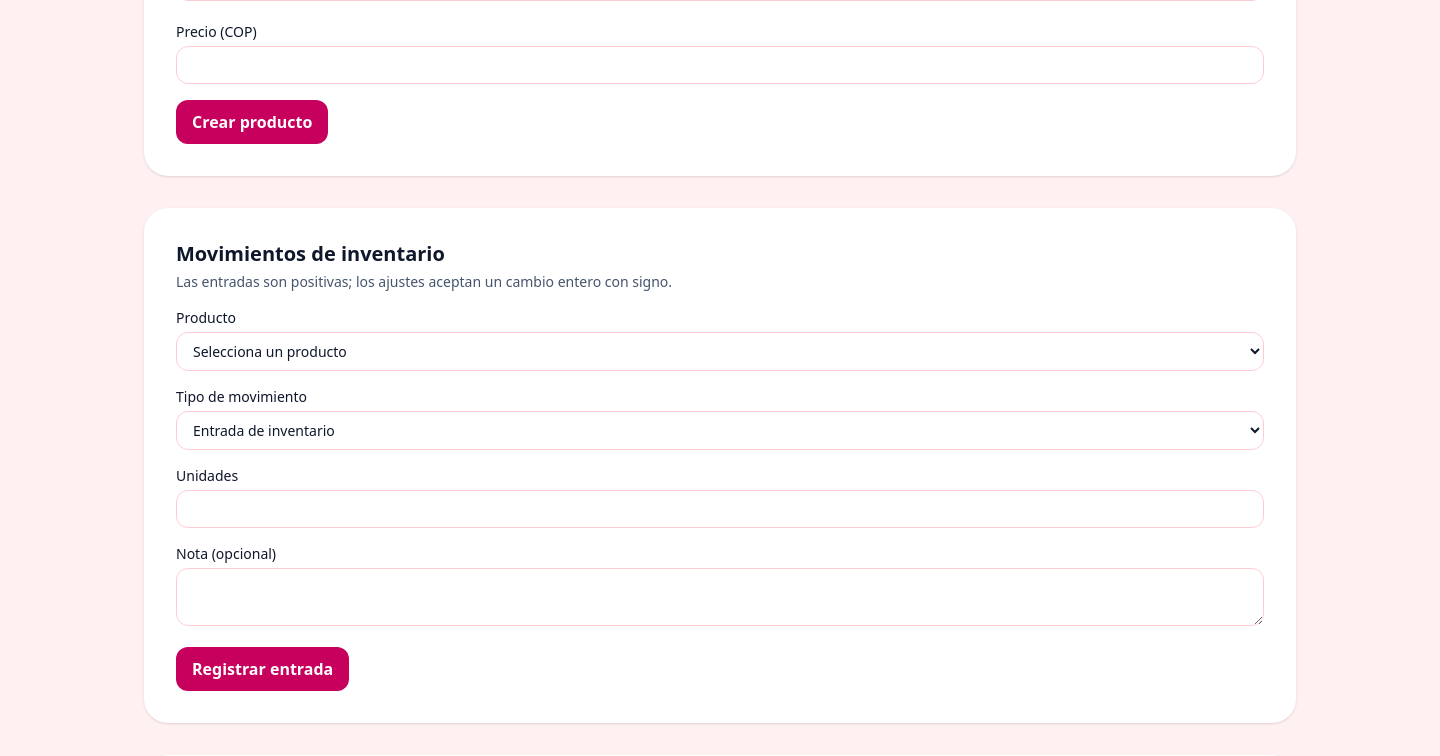
administrator stock movement form › ignores a mutation response that arrives after logout
This screenshot has width=1440, height=756.
(page scrolled)
Select "KW-001 · Sticker kawaii" in the dropdown labelled "Producto" at (720, 352), box [176, 332, 1264, 371]
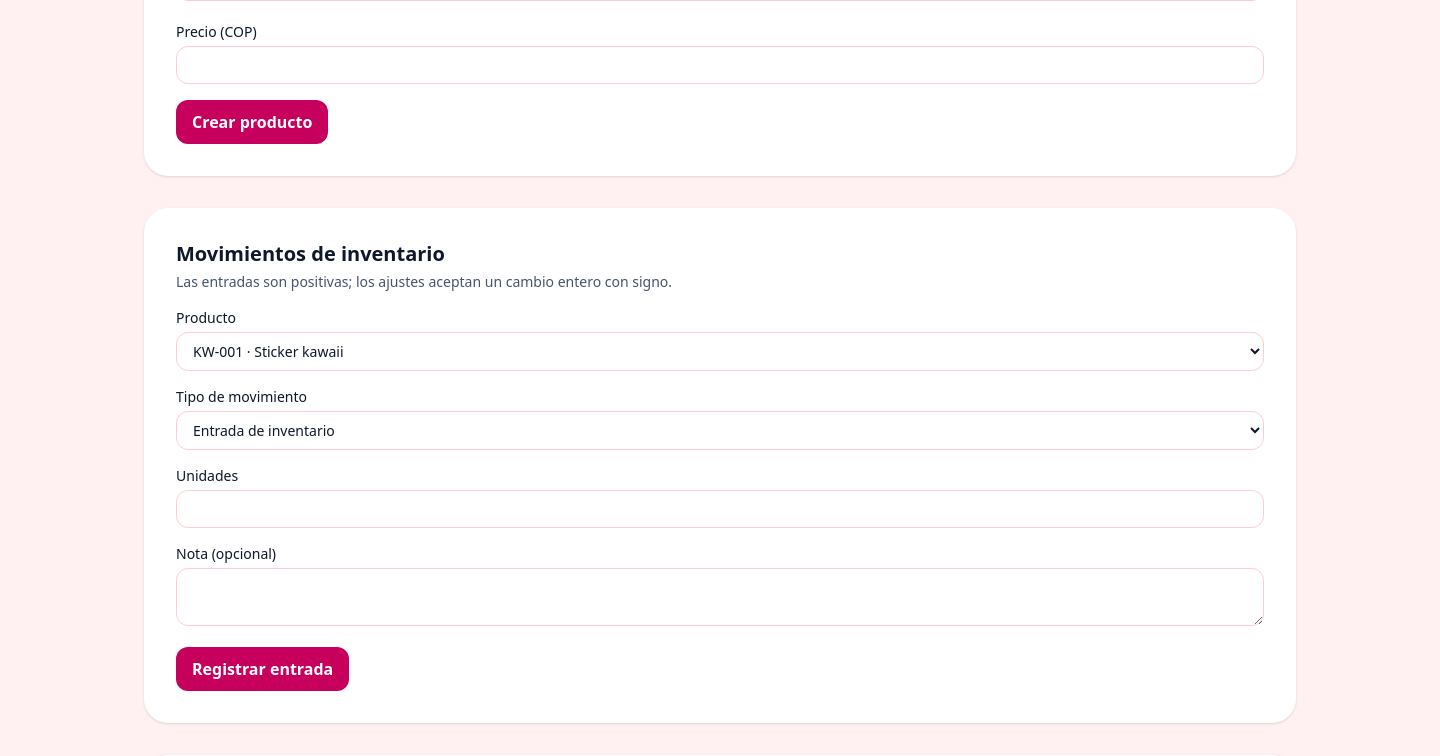
Type "3" into the number field labelled "Unidades" at (720, 509), box [176, 490, 1264, 528]
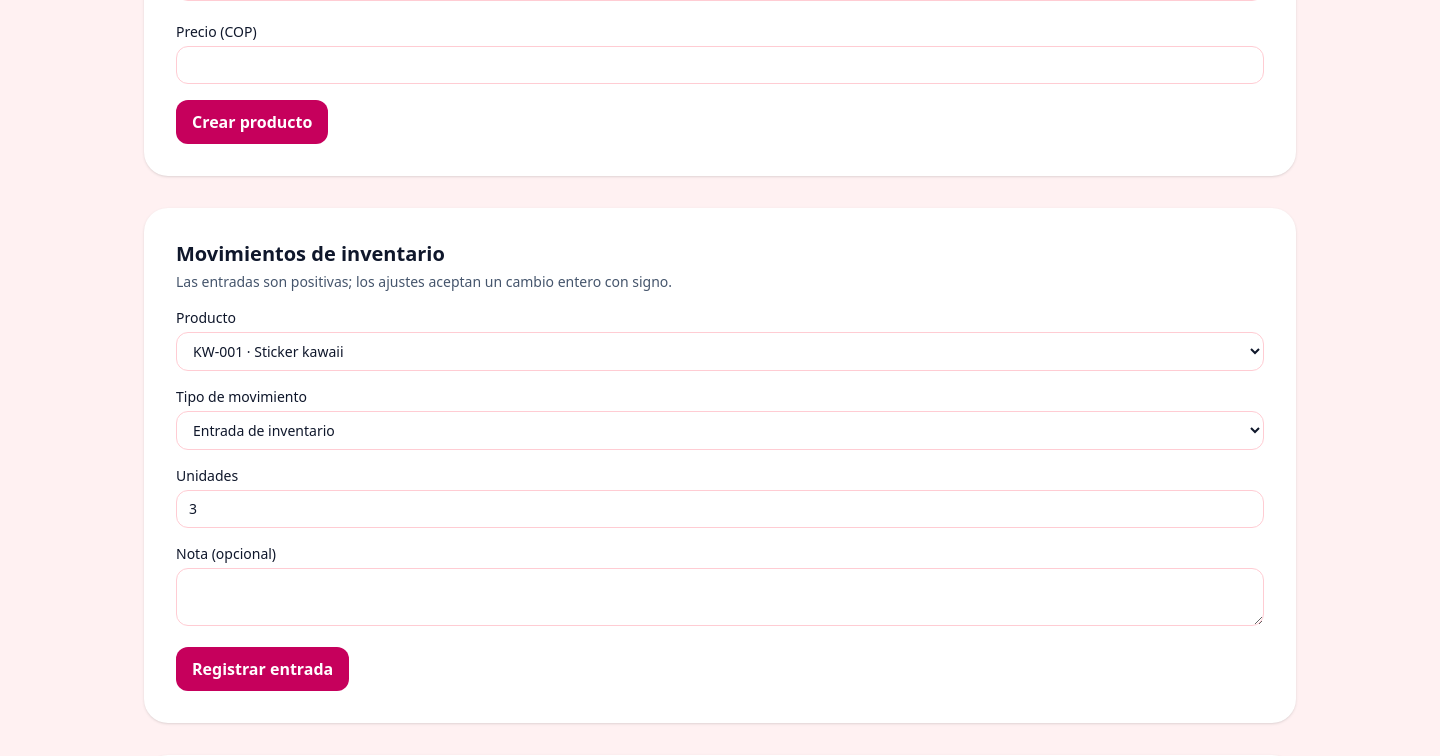
Submit the form named "Registrar movimiento de inventario", box [144, 208, 1296, 723]
(page scrolled)
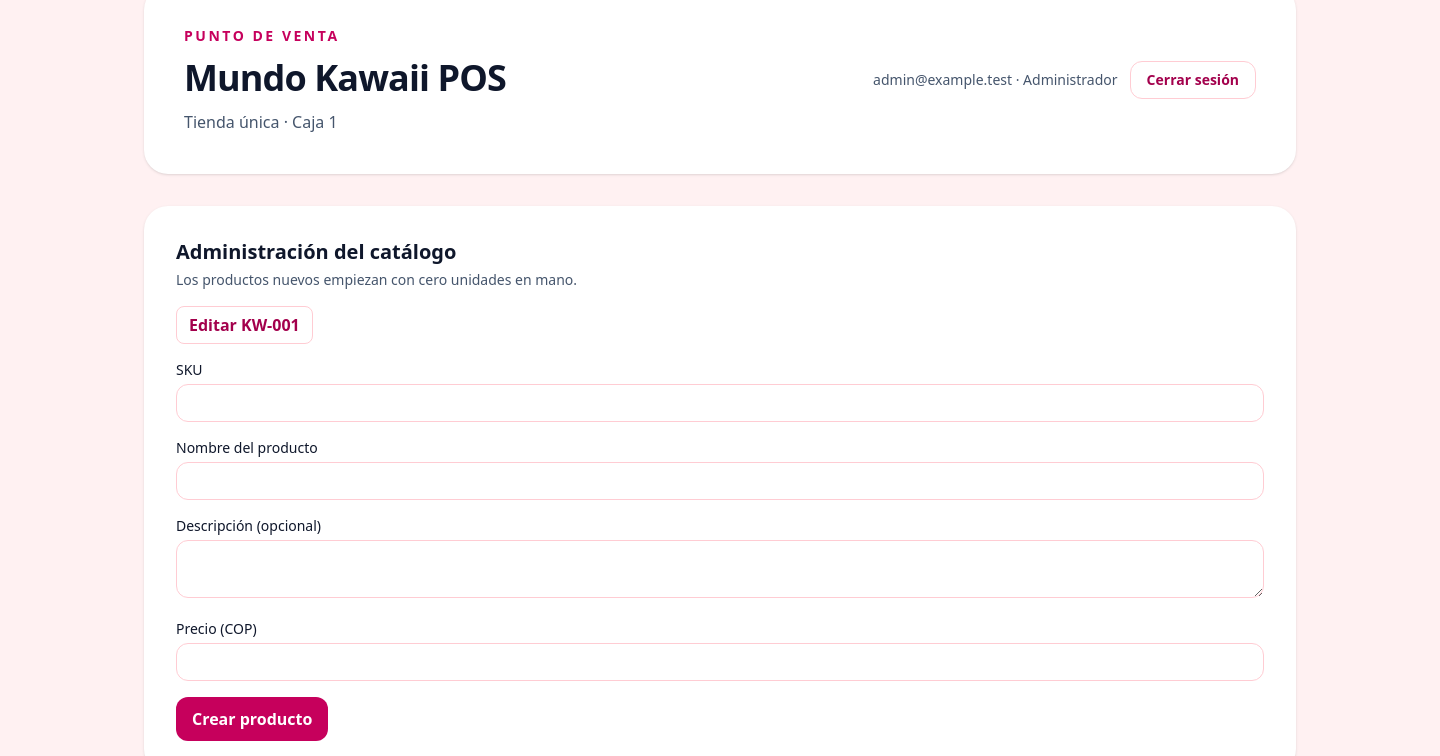
Click the button "Cerrar sesión" at (1193, 80), box [1130, 61, 1256, 99]
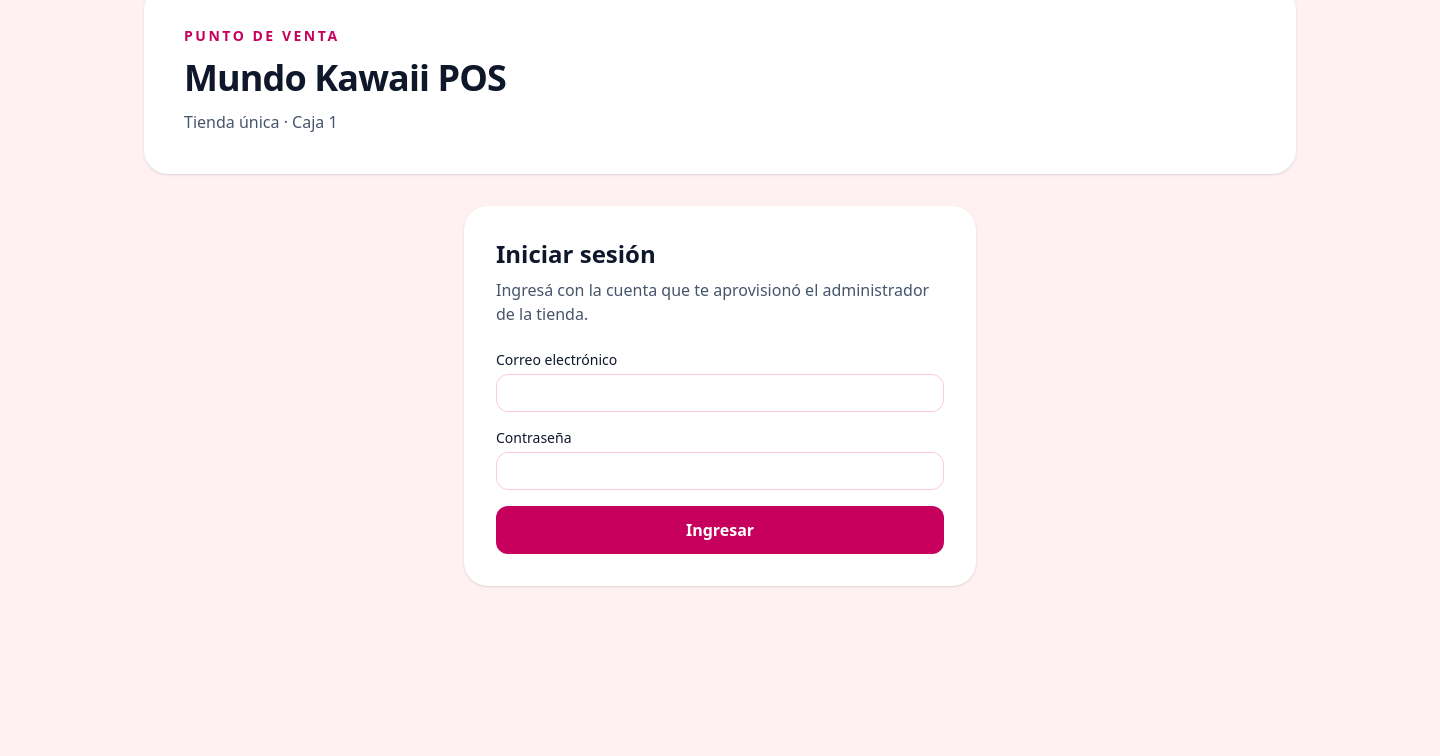
Now the heading "Iniciar sesión" is shown, box [496, 237, 656, 270]
